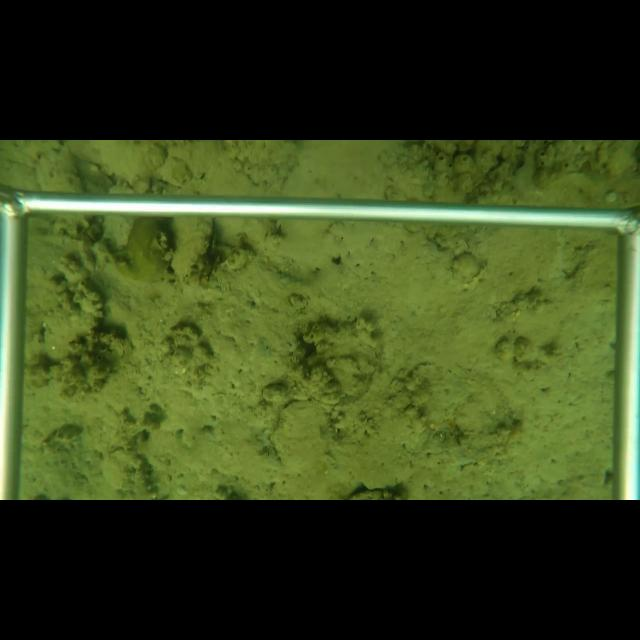Oyster-Closed: (260, 396, 327, 469), (34, 147, 87, 190)
Oyster-Open: (168, 217, 218, 289)
